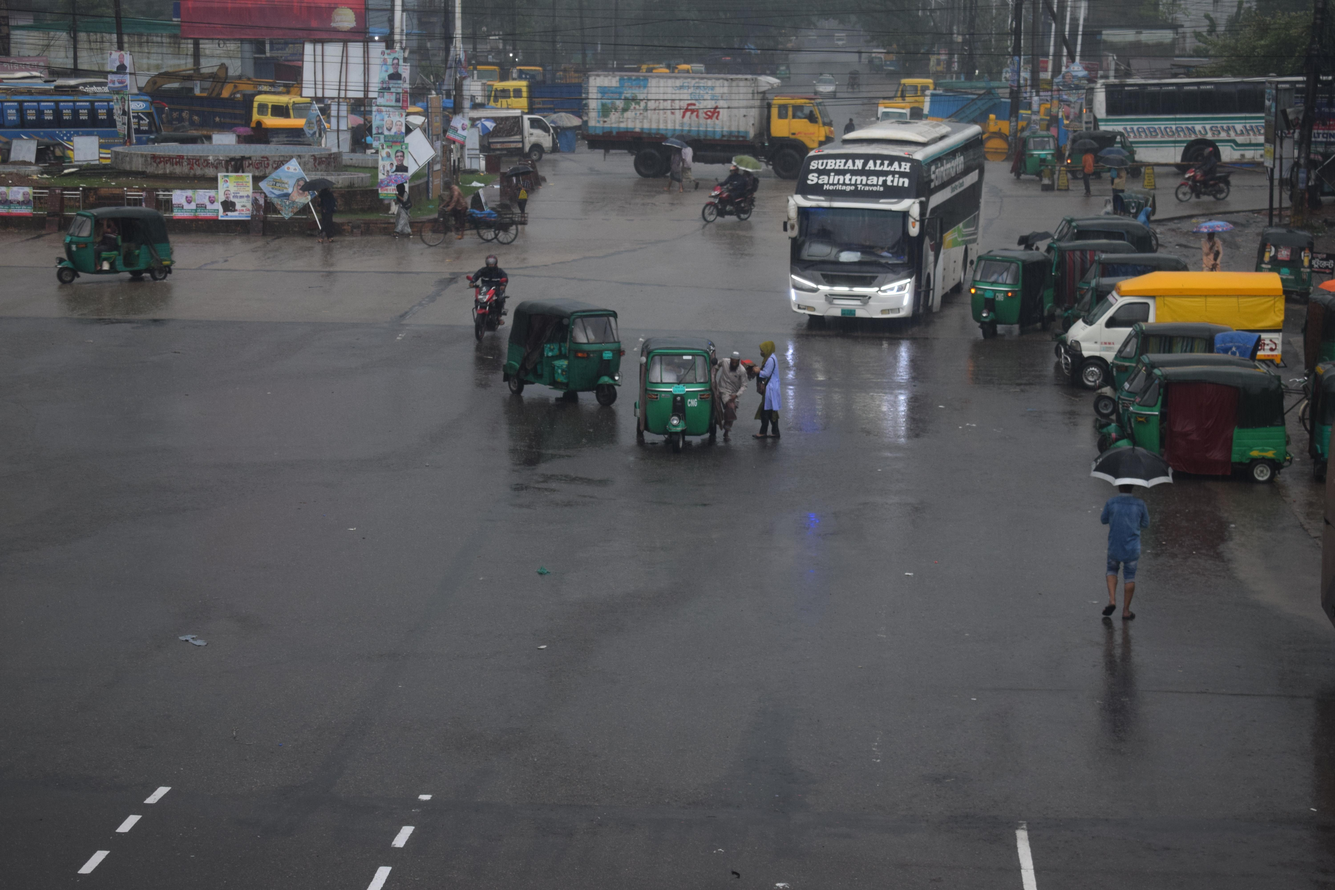Bike: (688, 129, 776, 260), (1154, 139, 1253, 206), (455, 239, 512, 353)
Bus: (765, 99, 1011, 344), (1080, 54, 1335, 202), (0, 64, 189, 228)
Car: (1049, 242, 1313, 368), (417, 163, 542, 263)
Truck: (556, 57, 857, 208), (184, 61, 356, 177), (474, 51, 597, 145), (860, 60, 1022, 127)
